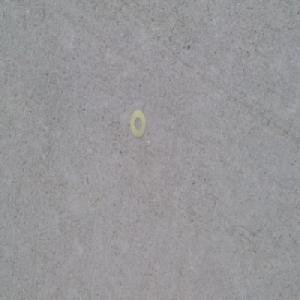Washer: (129, 109, 145, 139)
